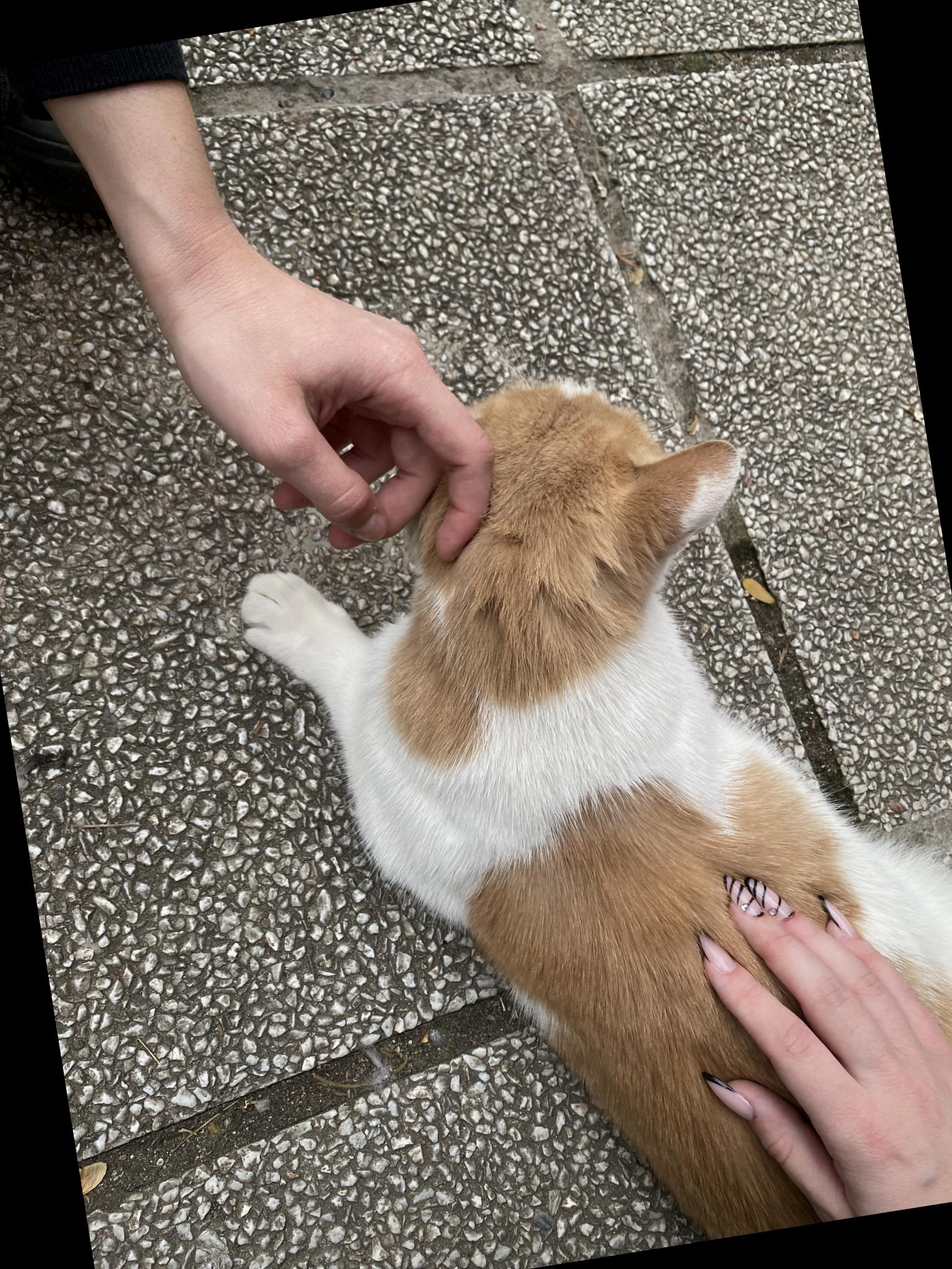macka: (208, 322, 952, 1269)
